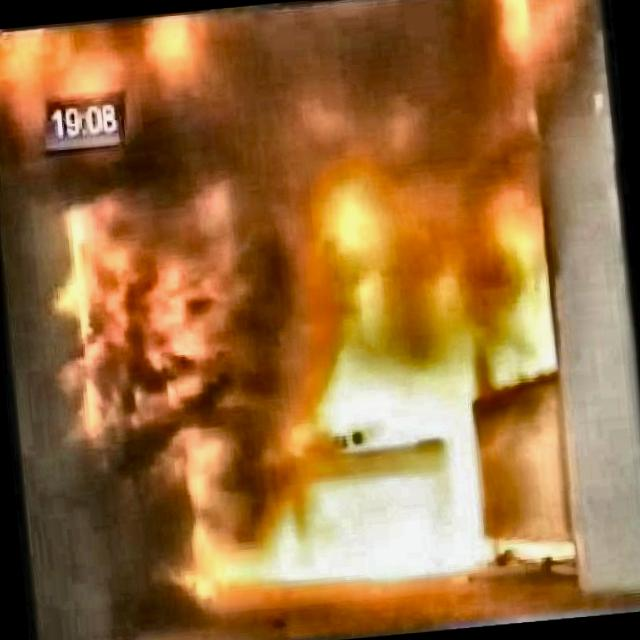fire: (0, 0, 577, 635)
